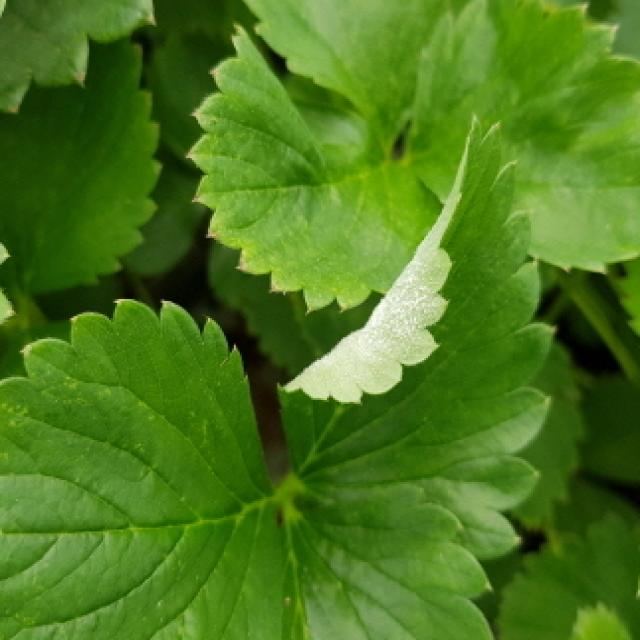Powdery Mildew Leaf: (276, 110, 561, 562)
